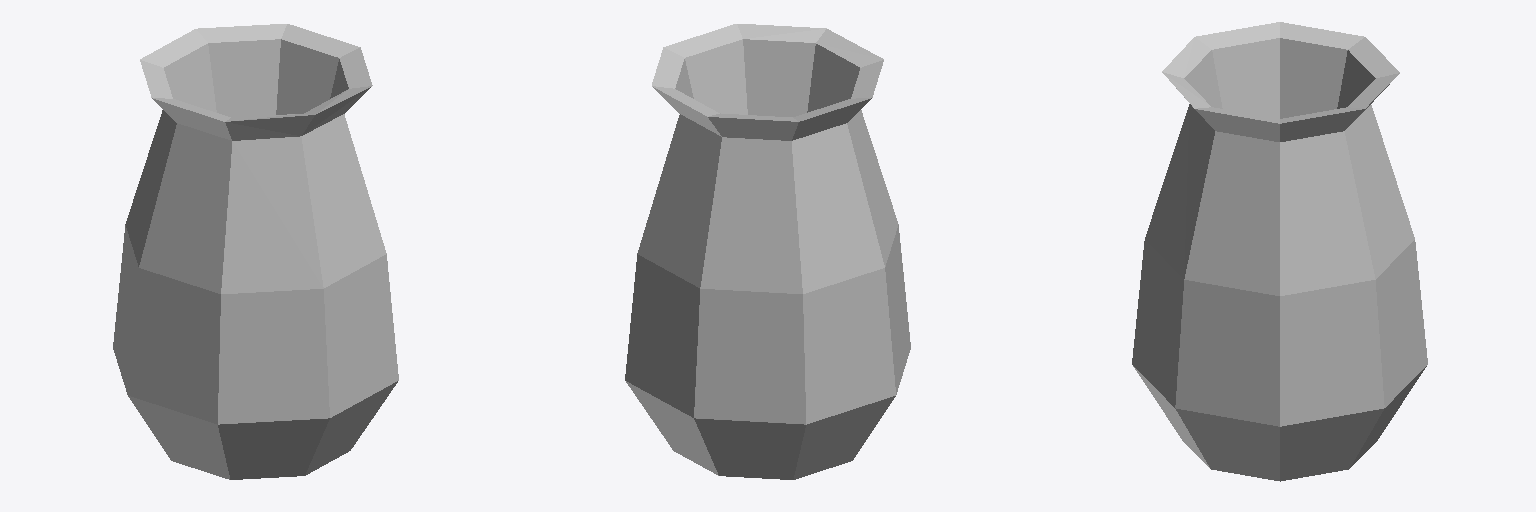
File: uldamanpot02.obj
3 views of the same model, side by side, from view 1: azimuth 30°, elevation 25°; view 2: azimuth 150°, elevation 25°; view 3: azimuth 270°, elevation 25° (orthographic).
Visible parts, largest first — view 1: object 1; view 2: object 1; view 3: object 1.
Boxes of the visible parts, x1,y1,x2,y2 form: object 1: [113, 24, 398, 479]; object 1: [625, 24, 910, 479]; object 1: [1132, 22, 1427, 481].
Size of the model in its own units: 1.77 by 2.43 by 1.77.